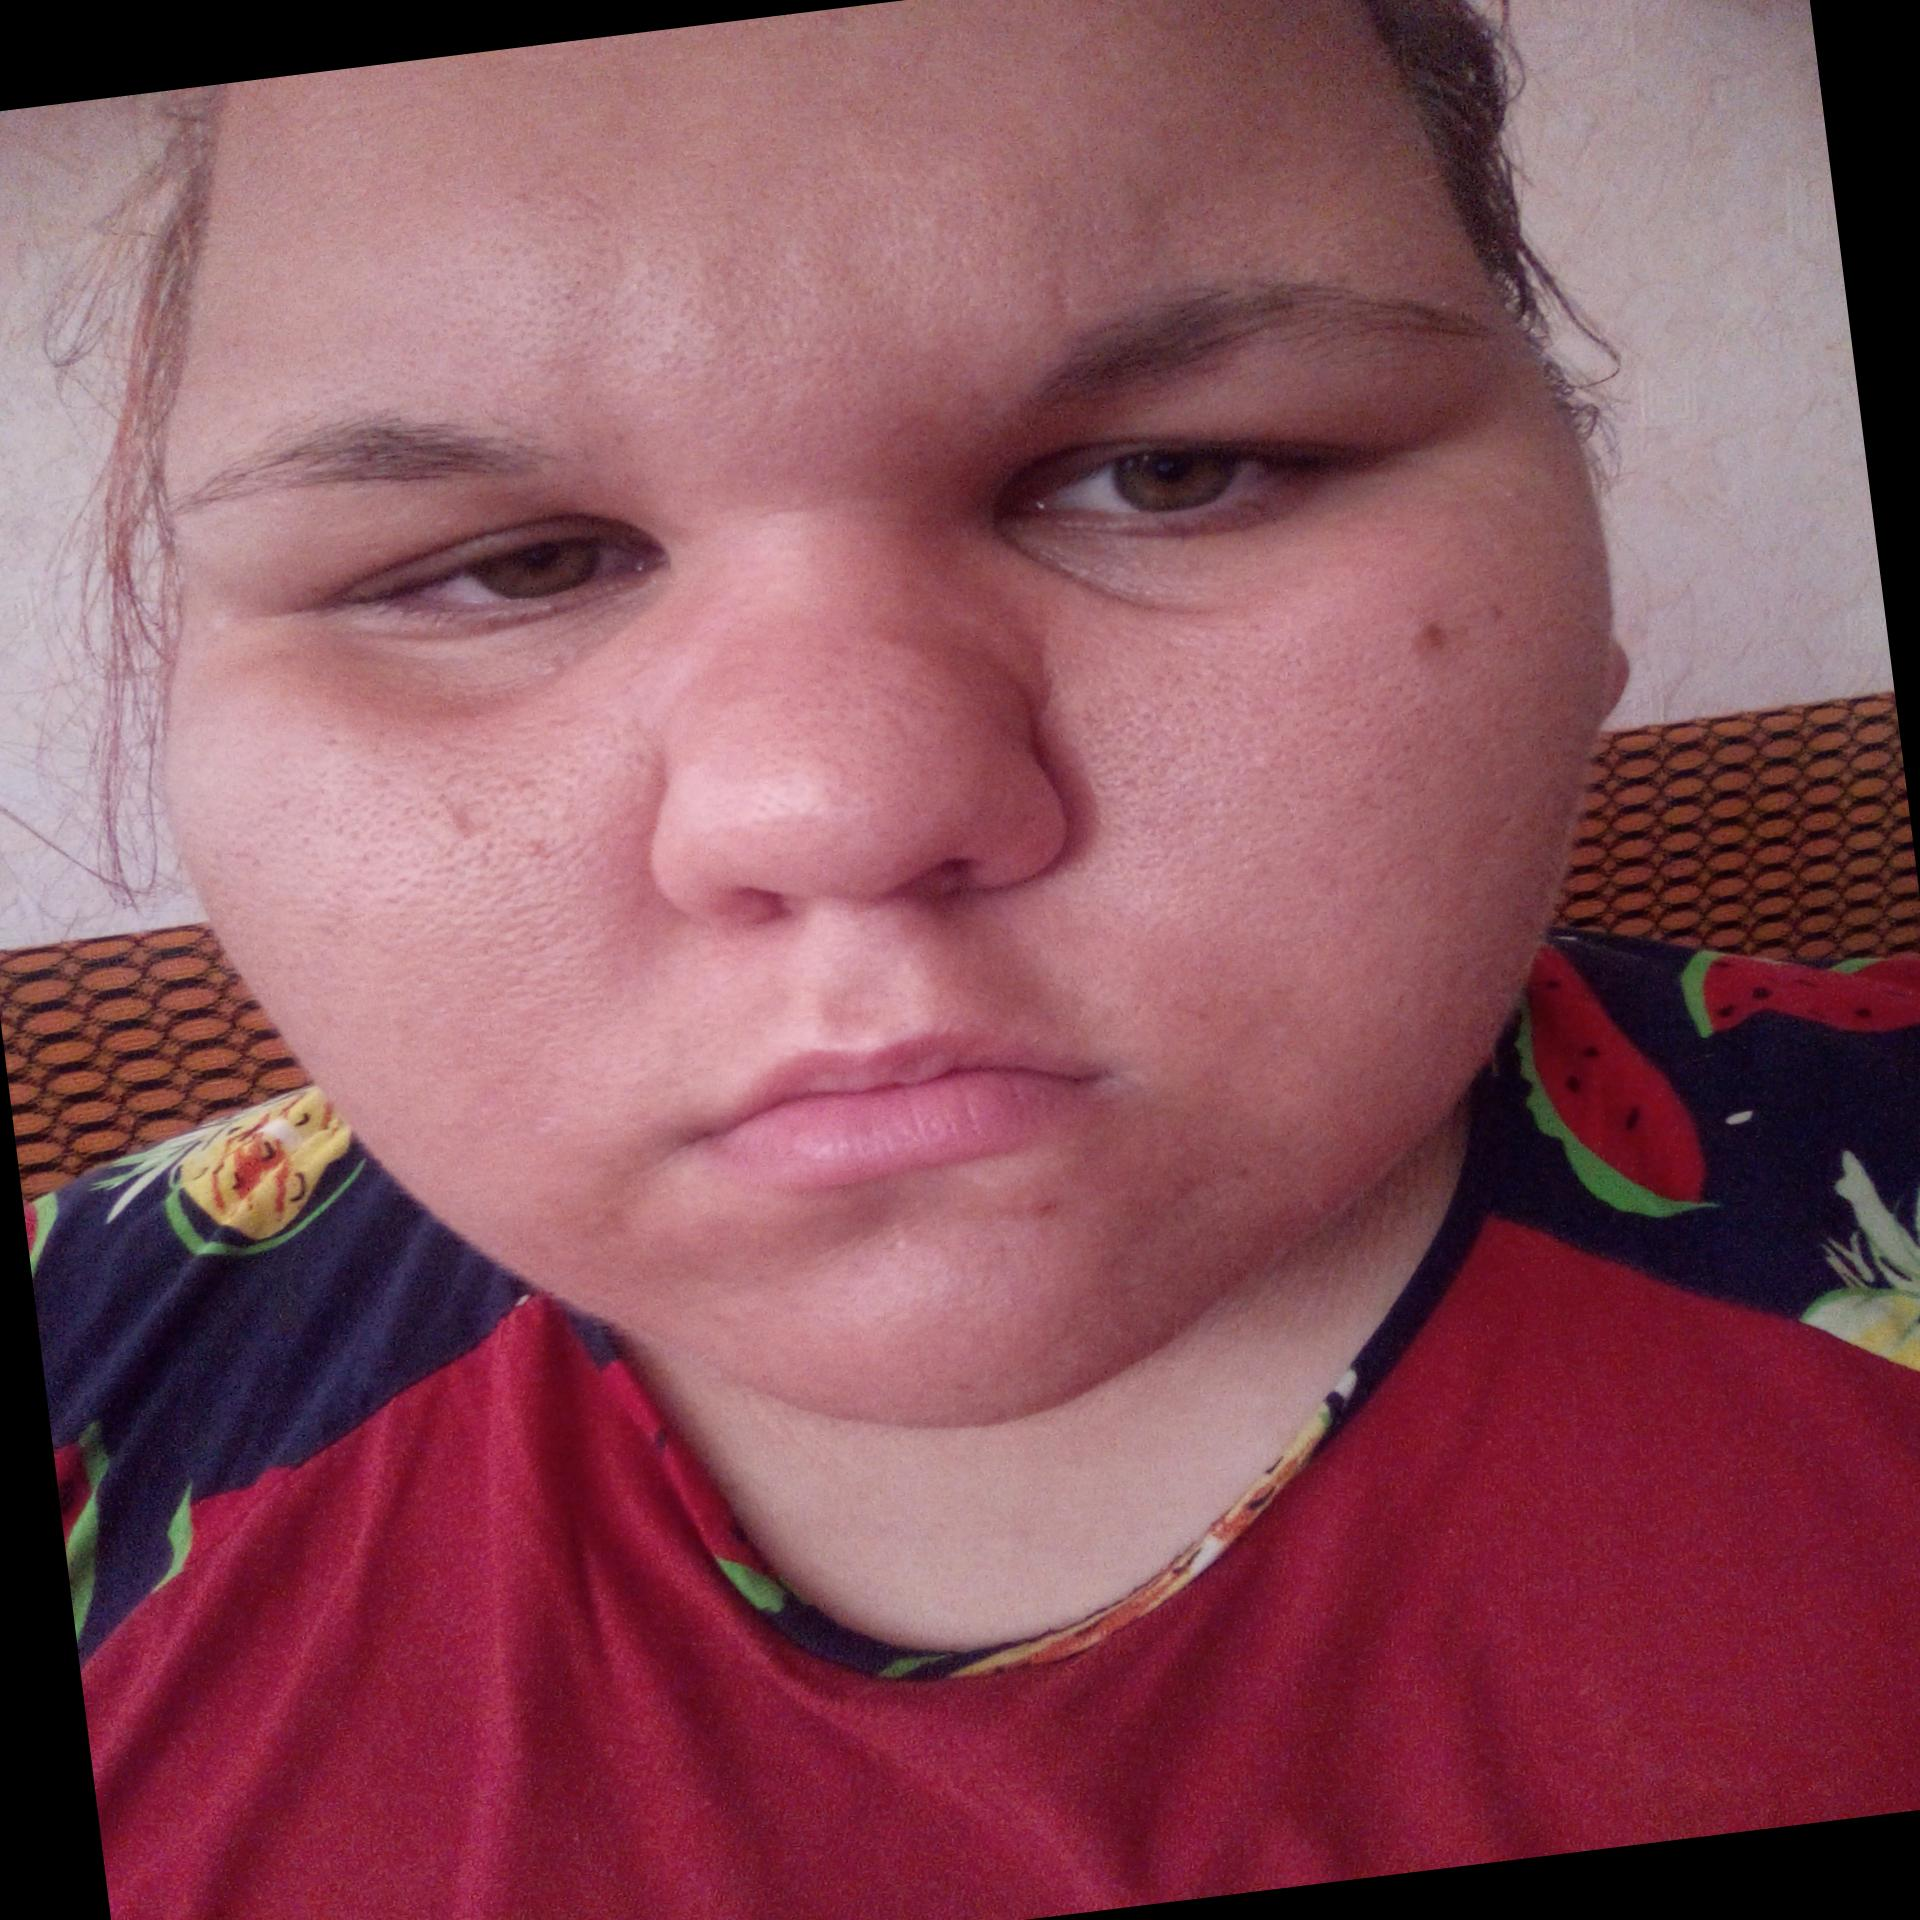Acne: (1377, 607, 1454, 672), (1002, 1190, 1080, 1243)
Dark Circles: (237, 571, 703, 756), (992, 489, 1352, 647)
Englarged Pores: (251, 190, 949, 433), (260, 737, 680, 1050), (1067, 677, 1517, 948), (942, 139, 1336, 334), (638, 346, 1009, 535), (696, 673, 983, 863), (355, 1022, 696, 1159), (1037, 617, 1366, 730)
